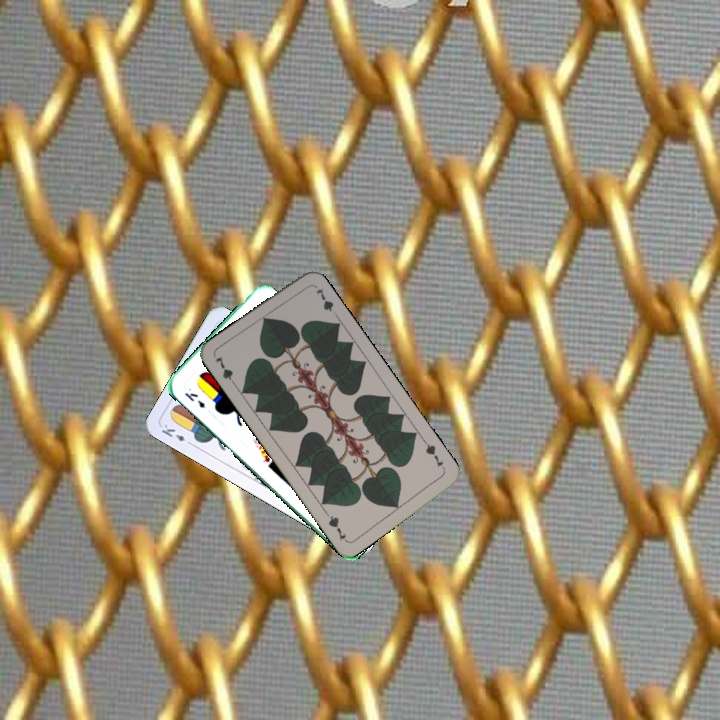EK: (157, 420, 195, 448), (181, 389, 208, 411)
G7: (211, 352, 239, 389), (420, 437, 448, 473)
